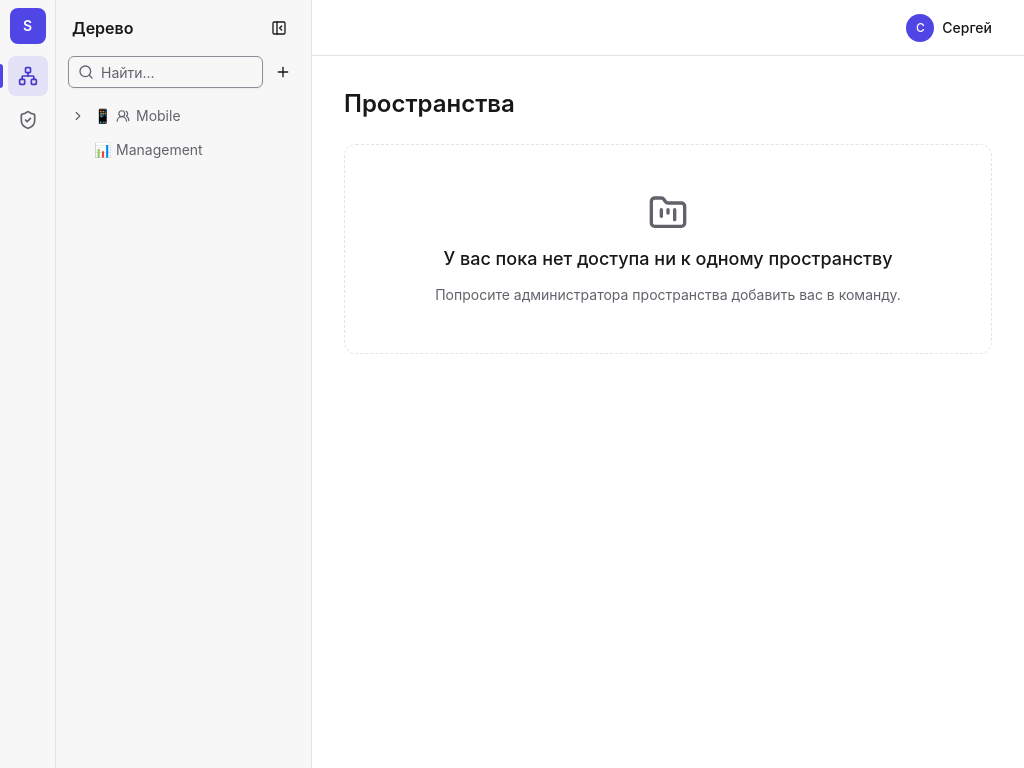
Test: Панель «Дерево» › системный администратор открывает создание пространства из «+»
The width and height of the screenshot is (1024, 768).
Click the button named "Добавить в дерево" at (283, 72), box x1=267 y1=56 x2=299 y2=88
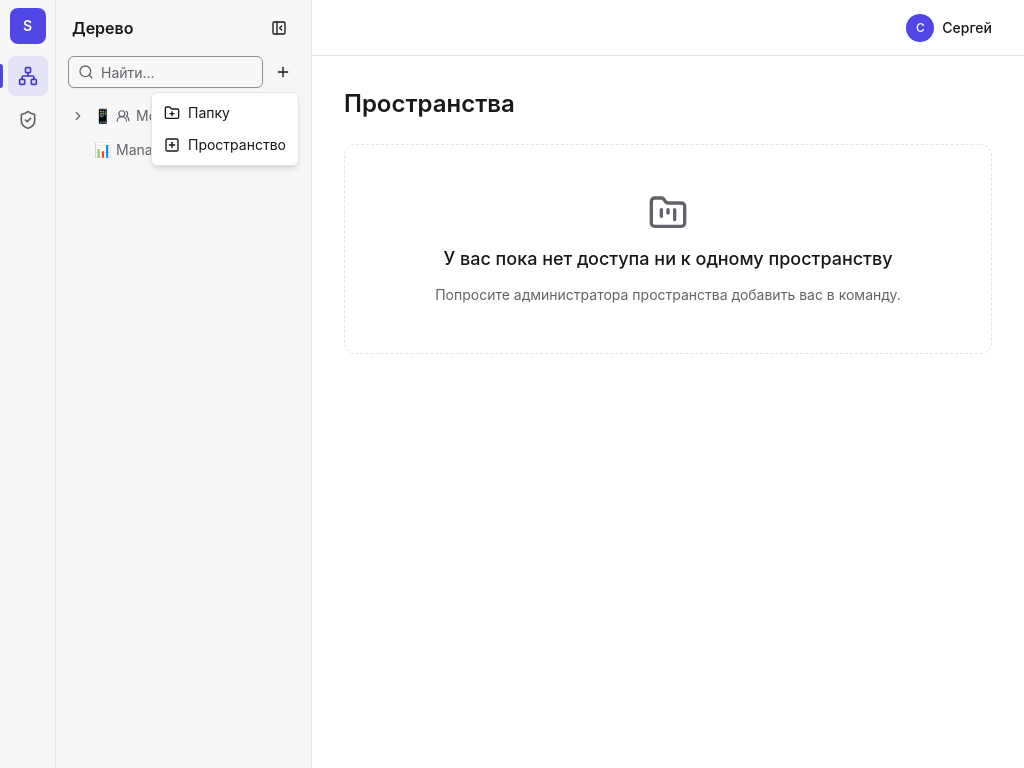
Click the menu item "Пространство" at (225, 144), box x1=164 y1=136 x2=286 y2=153
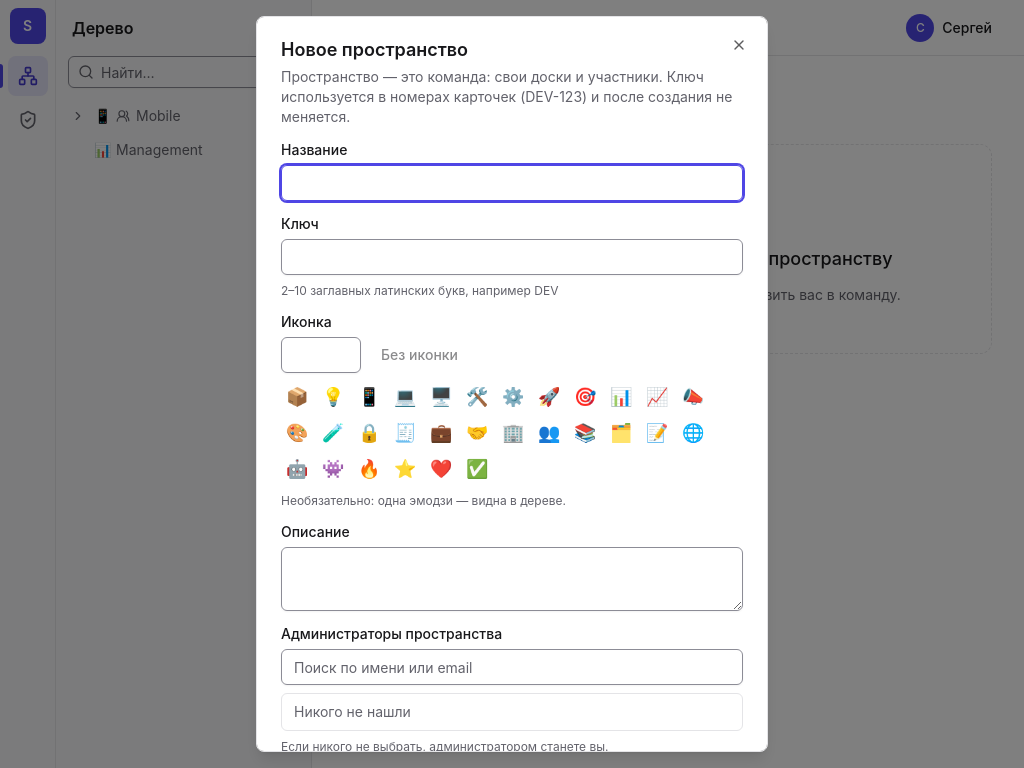
Now the dialog is shown, box x1=256 y1=16 x2=768 y2=752
